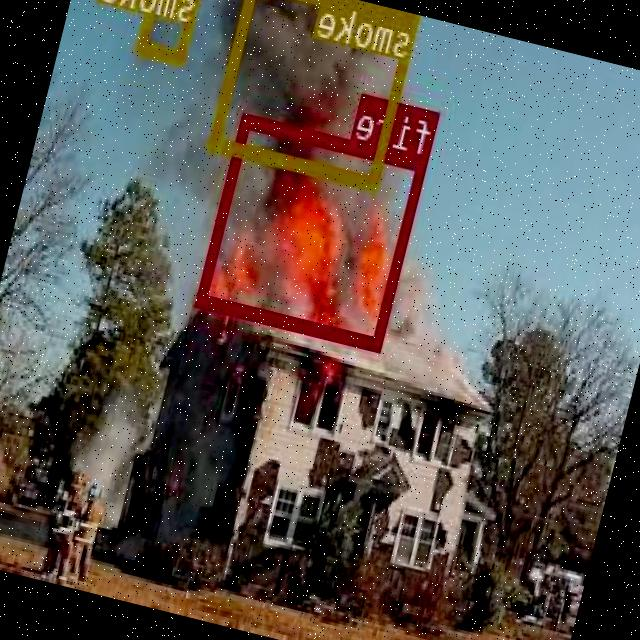fire: (198, 114, 428, 348)
smoke: (210, 0, 420, 186), (137, 0, 206, 63)
